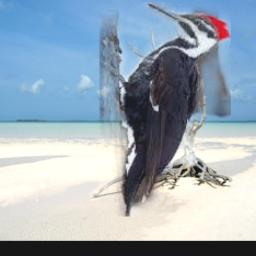Woodpecker: (100, 2, 231, 217)
